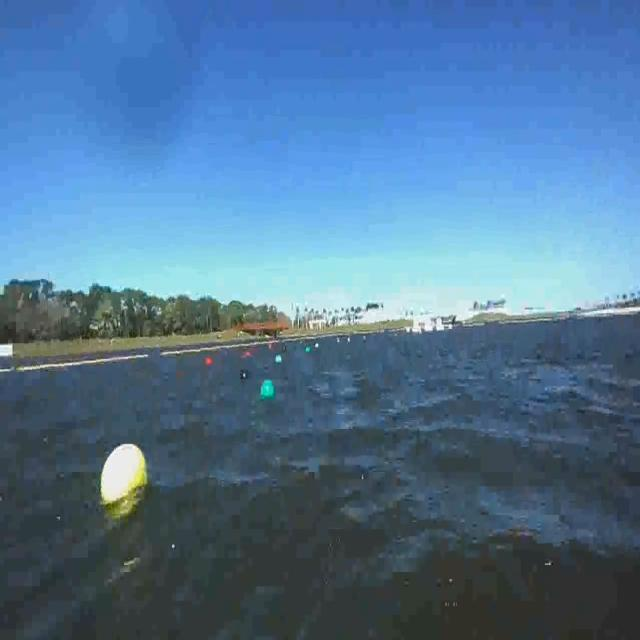black-buoy: (240, 368, 250, 382)
green-buoy: (262, 377, 278, 399), (276, 354, 282, 365)
red-buoy: (206, 356, 213, 366)
yellow-buoy: (102, 444, 149, 514)
